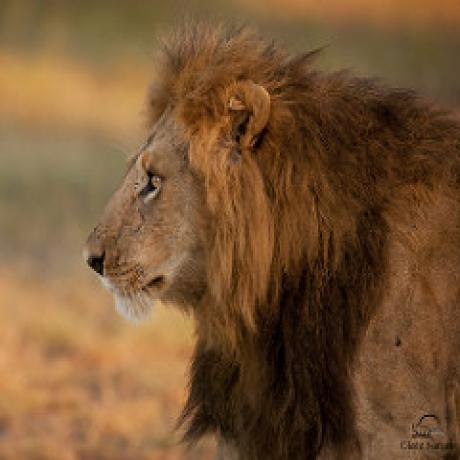Lion: (78, 23, 460, 460)
